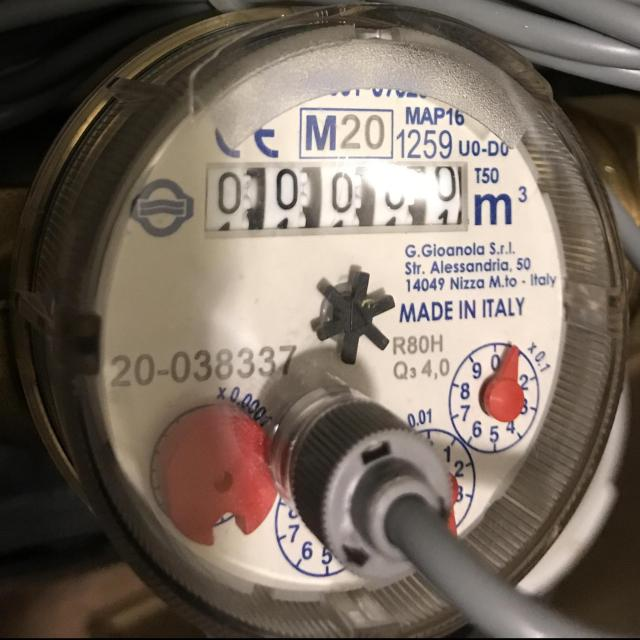gaz_meter: (96, 27, 567, 592)
indication: (208, 162, 466, 231)
